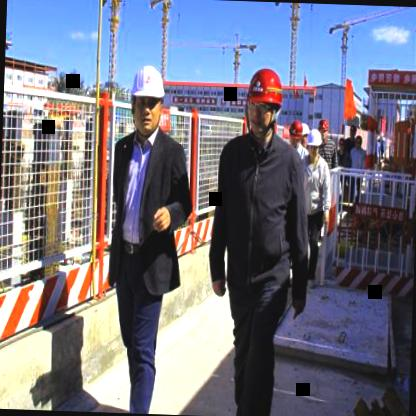helmet: (243, 66, 287, 138), (128, 62, 166, 138), (286, 116, 304, 152), (306, 126, 324, 162), (317, 114, 332, 142)
